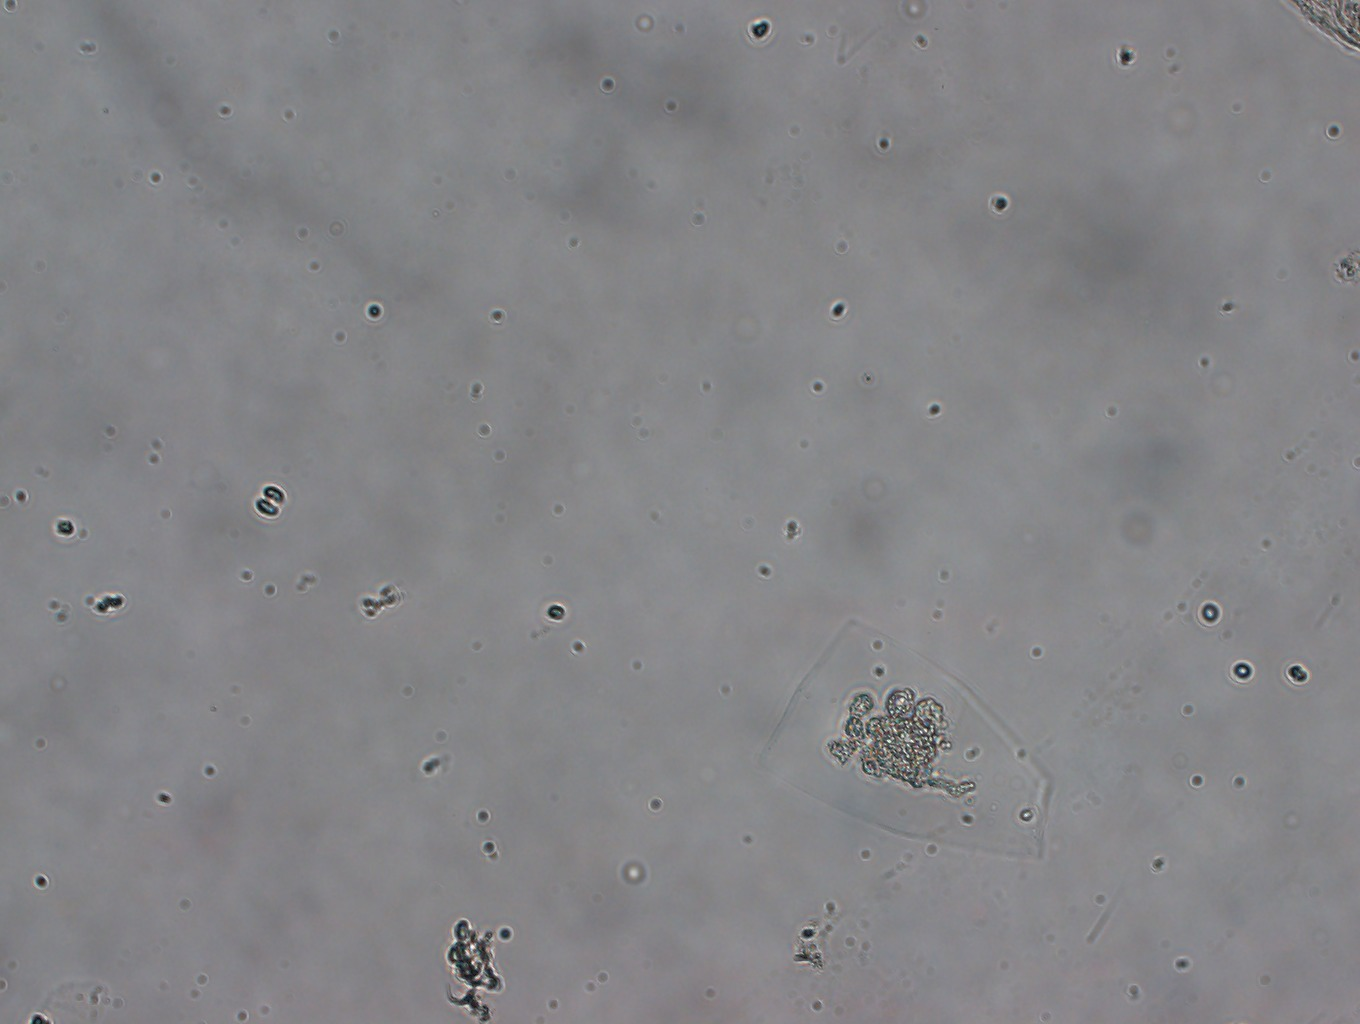helicotheca: (755, 615, 1049, 858)
